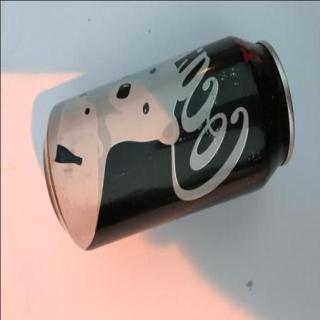Anorganik: (40, 28, 297, 260)
